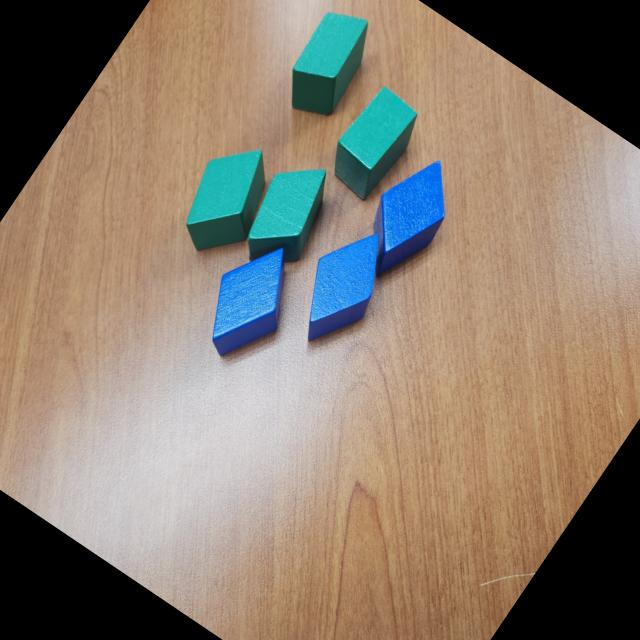blue: (184, 227, 318, 375), (278, 215, 407, 360), (342, 145, 470, 290)
green: (165, 130, 292, 270), (227, 150, 348, 284), (271, 0, 386, 128), (318, 83, 429, 205)
